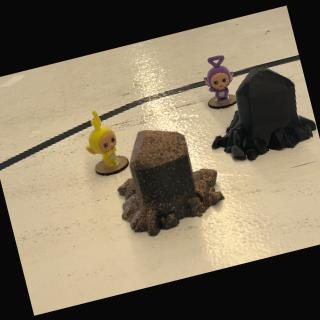teletubby: (86, 110, 119, 167), (203, 55, 233, 101)
